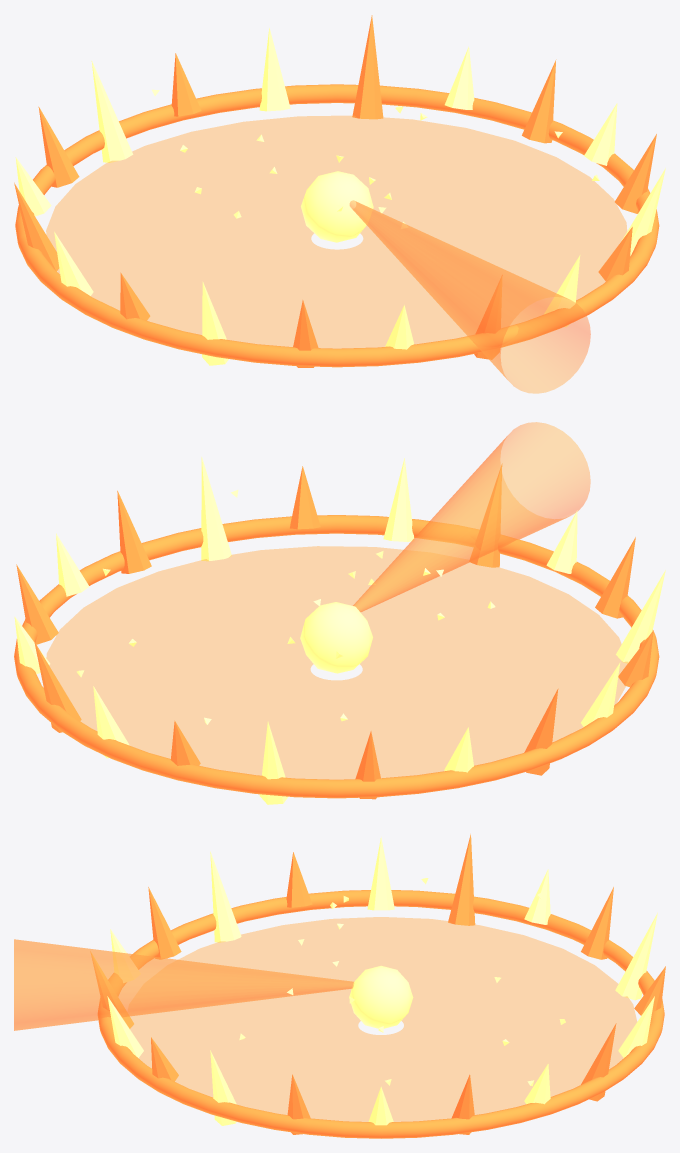
Rendered from vfx_ability_ignitionwave.glb.
The picture shows the model from 3 angles, top to bottom: view 1: azimuth 30°, elevation 25°; view 2: azimuth 150°, elevation 25°; view 3: azimuth 270°, elevation 25°; orthographic projection. The views are drawn at different scales.
Parts seen in each view (by area): view 1: iw_scorch, iw_ring, iw_splash, iw_core, iw_crest17, iw_crest14, iw_crest16, iw_crest19, iw_crest13, iw_crest1, iw_crest11, iw_crest18 (+12 smaller); view 2: iw_scorch, iw_ring, iw_splash, iw_core, iw_crest2, iw_crest5, iw_crest4, iw_crest1, iw_crest8, iw_crest7, iw_crest19, iw_crest17 (+12 smaller); view 3: iw_scorch, iw_ring, iw_splash, iw_core, iw_crest11, iw_crest8, iw_crest14, iw_crest10, iw_crest13, iw_crest7, iw_crest9, iw_crest5 (+12 smaller).
Part boxes in pixels (<box>): iw_scorch: <box>46,115,627,348</box>; iw_ring: <box>15,84,659,367</box>; iw_splash: <box>349,200,590,393</box>; iw_core: <box>301,171,373,242</box>; iw_crest17: <box>352,15,383,119</box>; iw_crest14: <box>91,60,133,162</box>; iw_crest16: <box>259,27,290,111</box>; iw_crest19: <box>522,59,556,143</box>; iw_crest13: <box>38,106,79,187</box>; iw_crest1: <box>615,134,656,213</box>; iw_crest11: <box>14,182,59,271</box>; iw_crest18: <box>444,46,474,109</box>; iw_scorch: <box>46,546,628,779</box>; iw_ring: <box>14,515,659,798</box>; iw_splash: <box>353,422,590,612</box>; iw_core: <box>300,602,372,673</box>; iw_crest2: <box>201,456,231,561</box>; iw_crest5: <box>469,463,502,567</box>; iw_crest4: <box>383,458,414,541</box>; iw_crest1: <box>117,490,151,573</box>; iw_crest8: <box>616,570,665,663</box>; iw_crest7: <box>595,537,635,618</box>; iw_crest19: <box>16,564,58,644</box>; iw_crest17: <box>34,641,81,732</box>; iw_scorch: <box>130,917,637,1121</box>; iw_ring: <box>97,890,664,1138</box>; iw_splash: <box>14,939,354,1030</box>; iw_core: <box>349,965,413,1028</box>; iw_crest11: <box>448,834,475,925</box>; iw_crest8: <box>210,851,241,942</box>; iw_crest14: <box>615,912,657,1000</box>; iw_crest10: <box>367,836,394,910</box>; iw_crest13: <box>581,887,613,959</box>; iw_crest7: <box>148,887,181,959</box>; iw_crest9: <box>286,852,312,907</box>; iw_crest5: <box>90,951,133,1028</box>.
Bounding box in the file's own units: 12.48 × 2.4 × 14.21.
